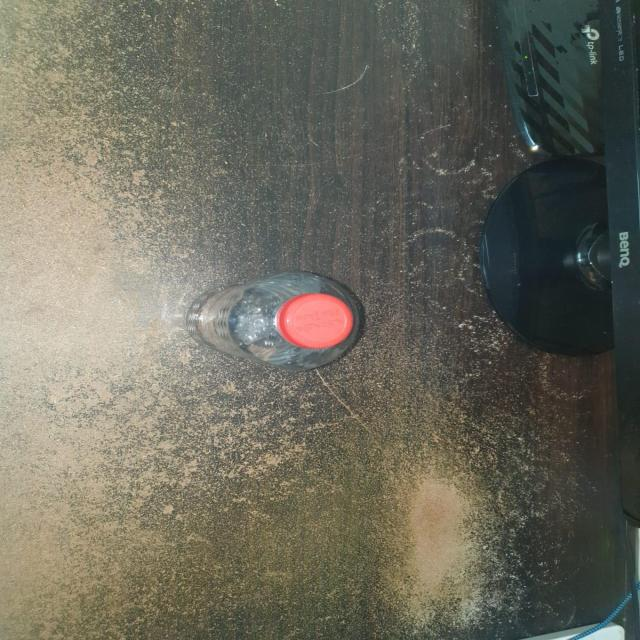bottle: (182, 262, 396, 396)
